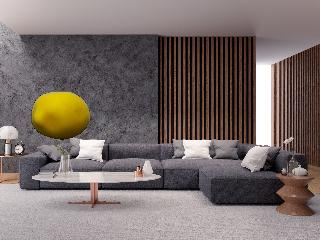lemon: (31, 92, 91, 139)
